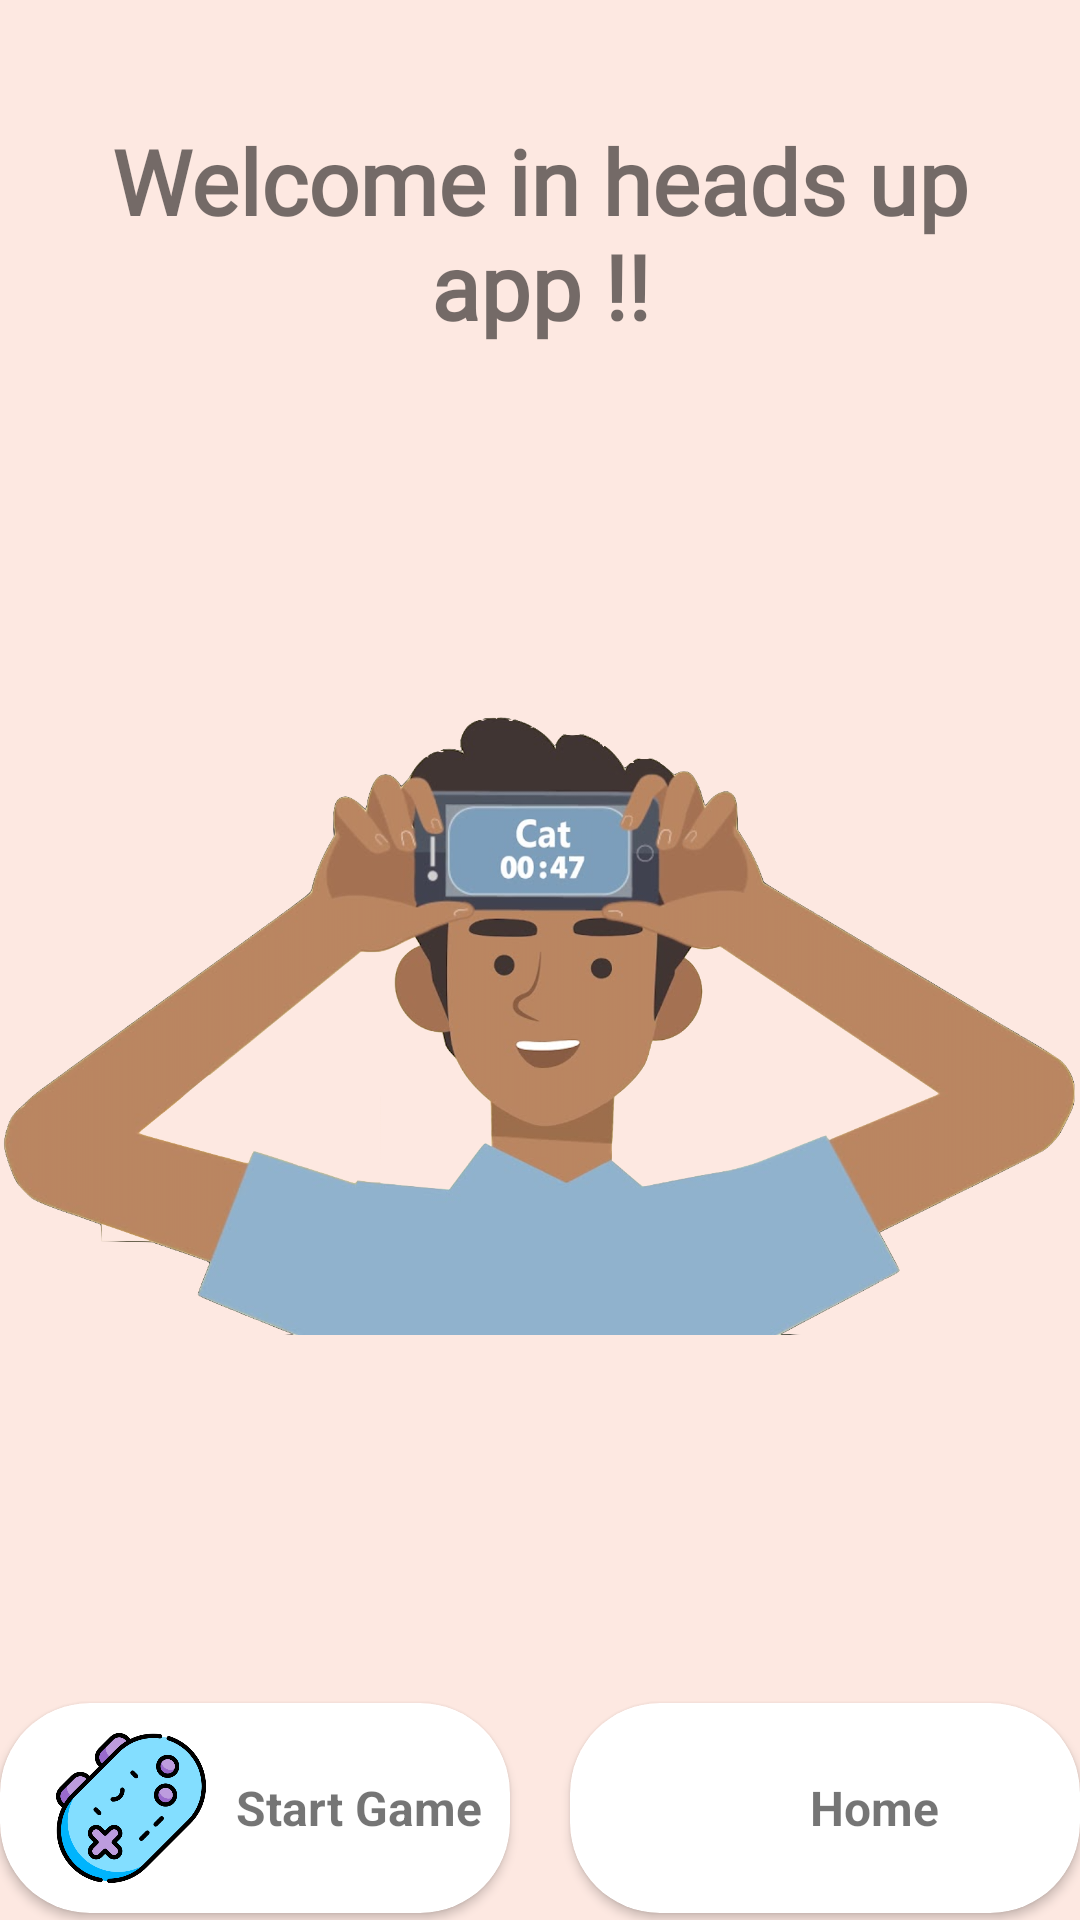

Point at icon controls on the screen. Image size 1080px x 1920px, points as (x=x, y=y).
videogame: (x=131, y=1808)
